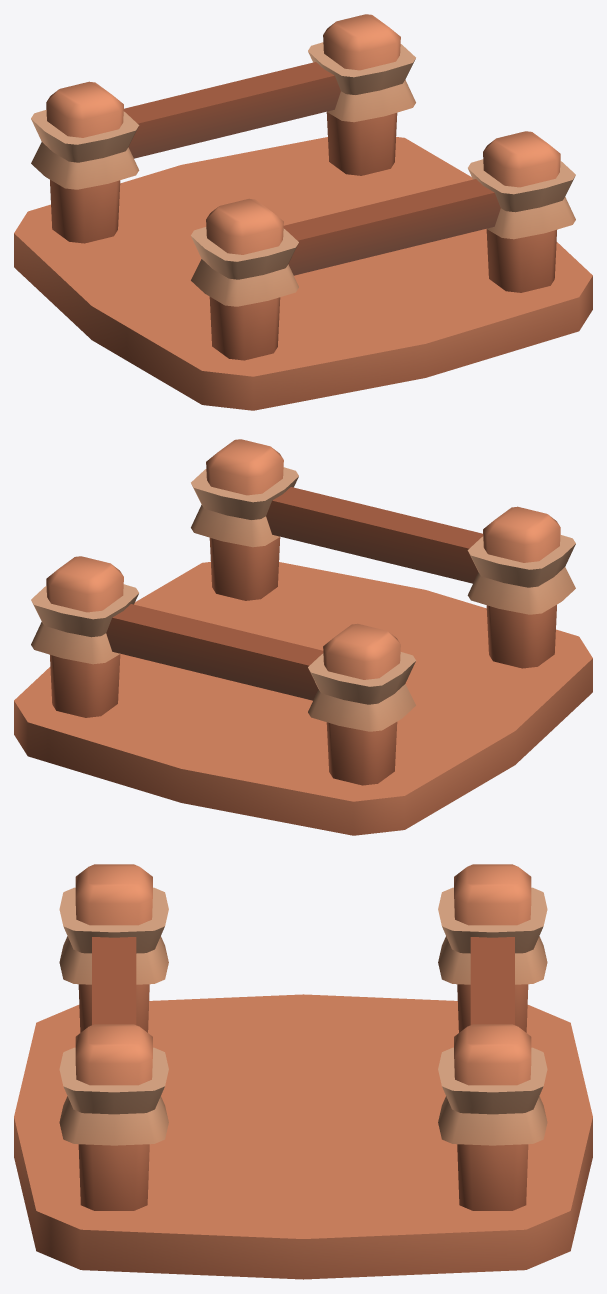
File: building_platform.glb
The picture shows the model from 3 angles, top to bottom: view 1: azimuth 30°, elevation 25°; view 2: azimuth 150°, elevation 25°; view 3: azimuth 270°, elevation 25°; orthographic projection. The views are drawn at different scales.
Visible parts, largest first — view 1: building-platform; view 2: building-platform; view 3: building-platform.
Boxes of the visible parts, bbox=[...] form: building-platform: bbox=[14, 14, 592, 410]; building-platform: bbox=[14, 439, 592, 835]; building-platform: bbox=[14, 864, 592, 1279].
Size of the model in its own units: 1.3 by 0.5 by 1.3.
Materials: 1 (1 with a texture image).
